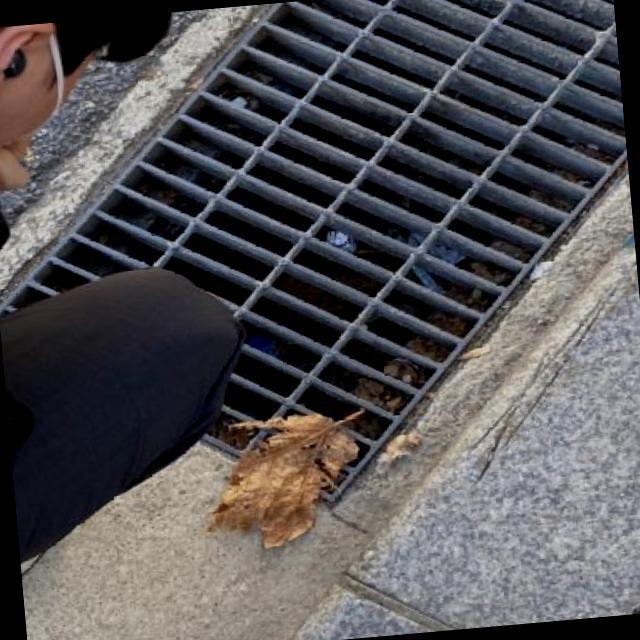drain-not clean-: (0, 0, 632, 485)
